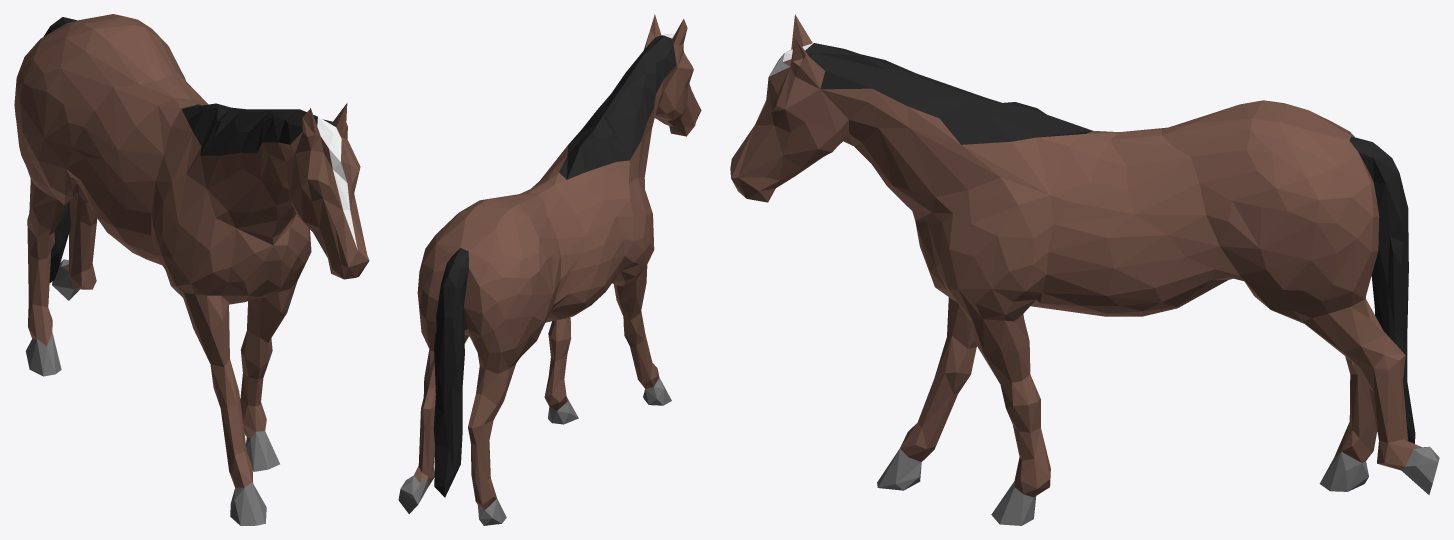
The model's file is animal_007.glb.
3 renders of one model, left to right at view 1: azimuth 30°, elevation 25°; view 2: azimuth 150°, elevation 25°; view 3: azimuth 270°, elevation 25°, orthographic. The views are drawn at different scales.
Visible parts, largest first — view 1: animal_007; view 2: animal_007; view 3: animal_007.
Boxes of the visible parts, left/top/right/bottom form: animal_007: left=14, top=14, right=369, bottom=525; animal_007: left=398, top=14, right=701, bottom=525; animal_007: left=730, top=14, right=1439, bottom=525.
Size of the model in its own units: 1.18 by 3.54 by 4.76.
1 material, 1 textured.
